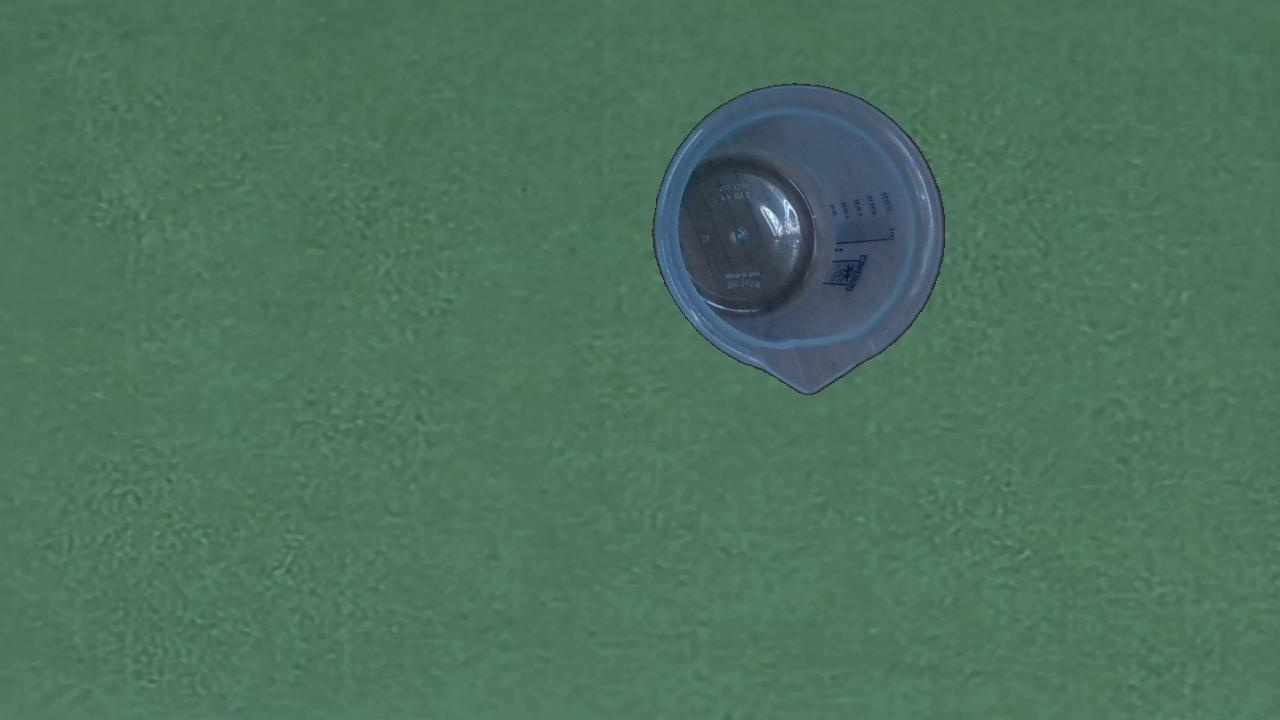cup: (652, 83, 945, 397)
